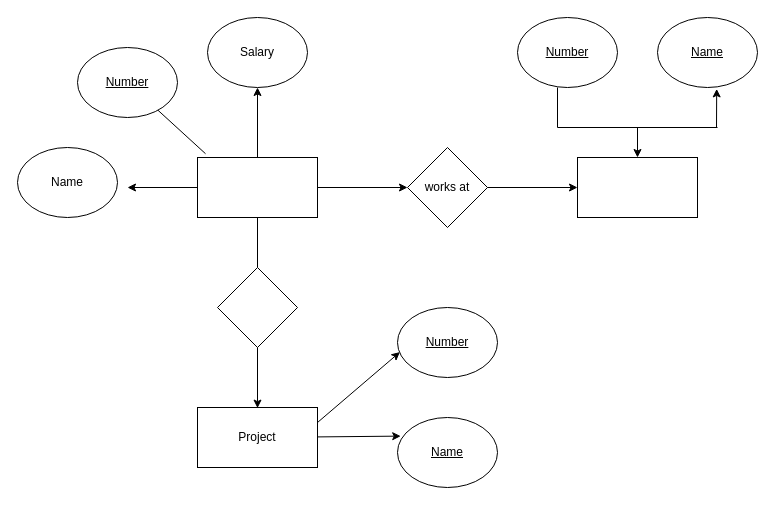
Some shapes in this 775 by 505 pixel diagram are drawn without their labels. Here are the shapes that lost their labels. From the top down, the centre of each, then its label:
At (x=257, y=187): "Employee".
At (x=637, y=187): "Department".
At (x=257, y=307): "Works on".
